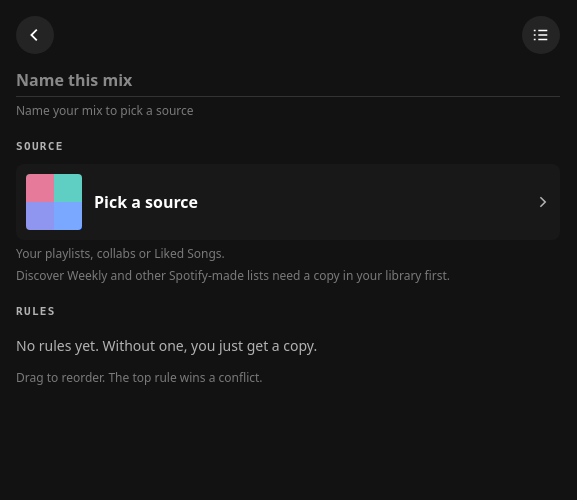
it: MixBuilder new-mix name first › once named, shows the target name and order options straight away
The width and height of the screenshot is (577, 500).
Expected: the text "Keep base order" is not shown
Type "Gym" into the field labelled "Mix name" at (288, 80), box x1=16 y1=64 x2=560 y2=97
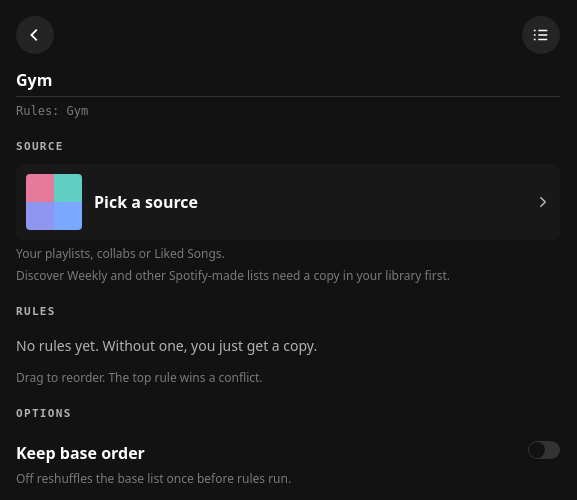
Expected: the text "Name your mix to pick a source" is gone
Expected: the text "Rules: Gym" is shown, x1=16 y1=104 x2=88 y2=118
Expected: the text "Keep base order" is shown, x1=16 y1=442 x2=145 y2=464
